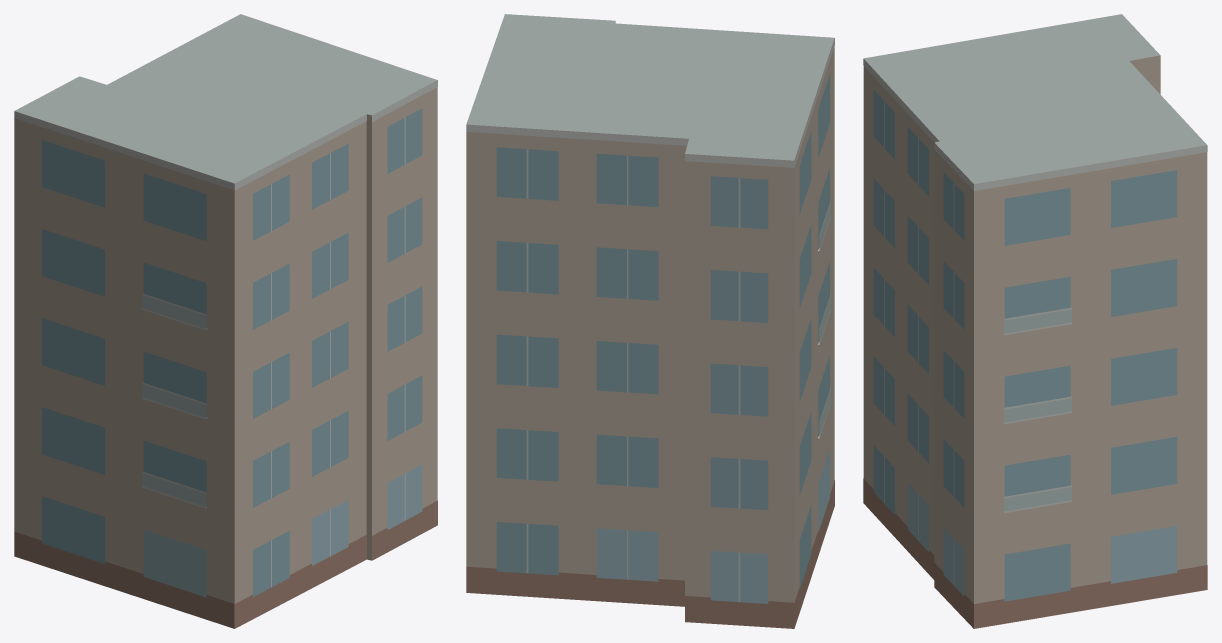
Rendered from survey-upis-32838392.glb.
3 renders of one model, left to right at view 1: azimuth 30°, elevation 25°; view 2: azimuth 150°, elevation 25°; view 3: azimuth 270°, elevation 25°, orthographic. The views are drawn at different scales.
Visible parts, largest first — view 1: survey-upis-32838392.tmp; view 2: survey-upis-32838392.tmp; view 3: survey-upis-32838392.tmp.
Part boxes in pixels (<box>): survey-upis-32838392.tmp: <box>14,14,437,628</box>; survey-upis-32838392.tmp: <box>466,14,834,628</box>; survey-upis-32838392.tmp: <box>863,14,1207,628</box>.
Bounding box in the file's own units: 12.9 × 15.7 × 11.02.
